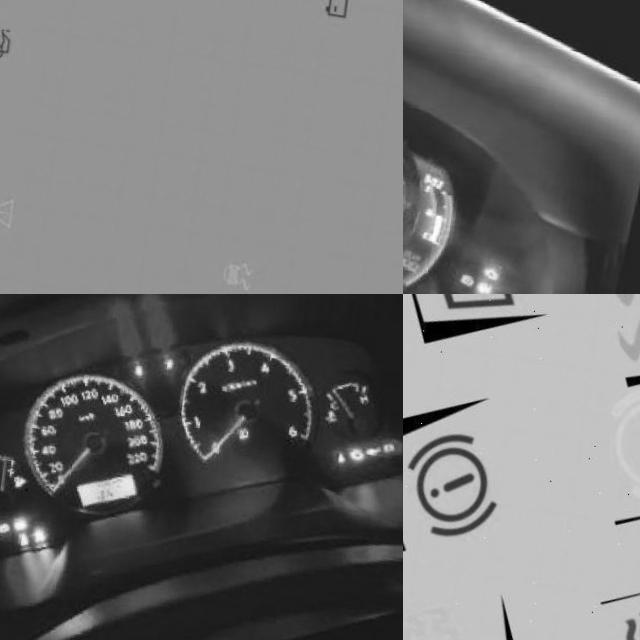High Engine Coolant Temperature: (331, 380, 352, 401)
Seat Belt: (345, 422, 360, 440)
